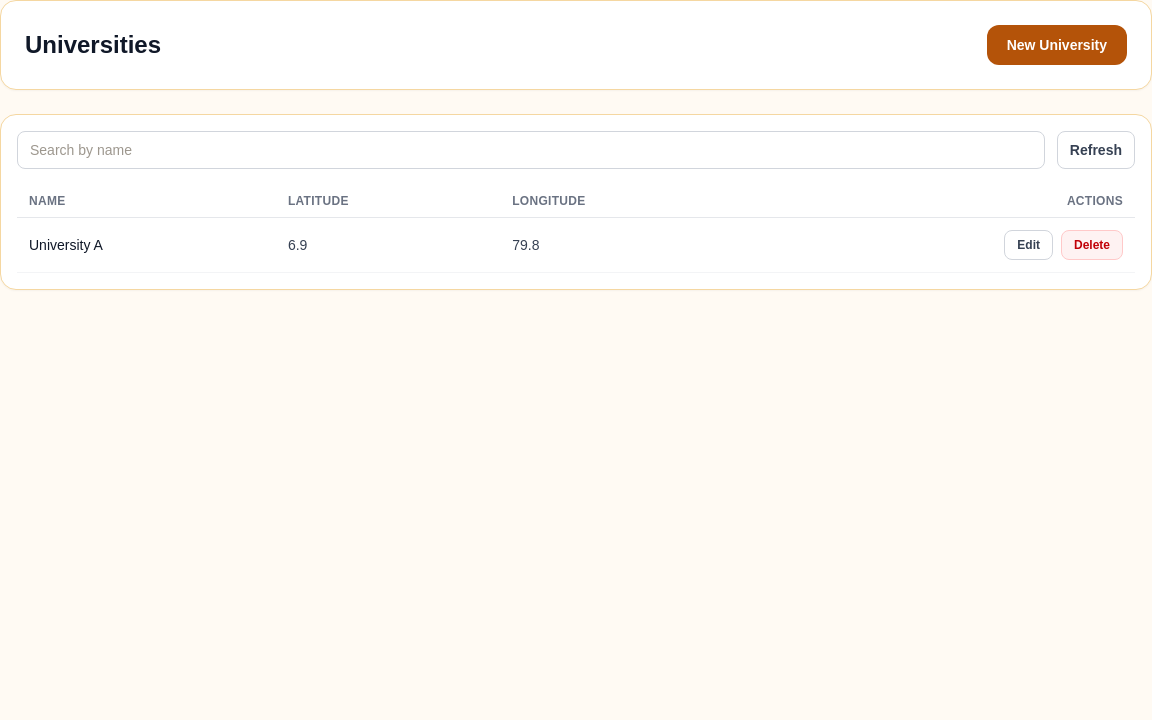
Admin universities page › validates maps URL before submit
Expected: the text "University A" is shown, [17,218,276,272]
Click the button "New University" at (1057, 45), box [987,25,1127,65]
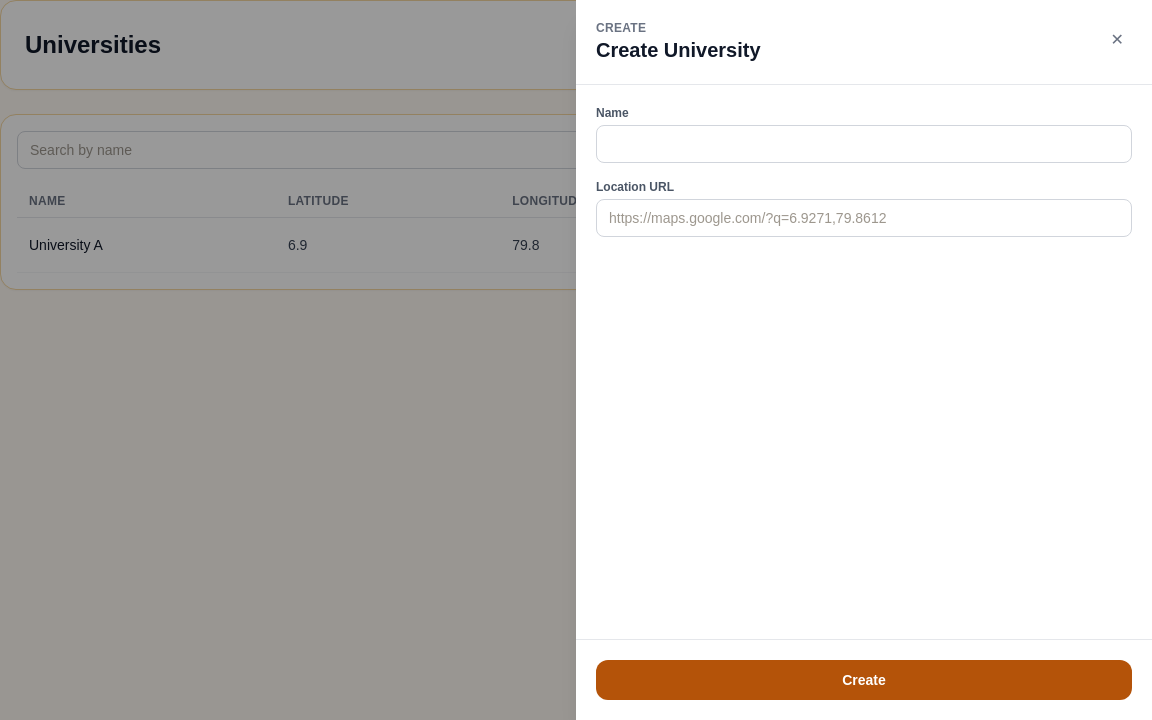
Type "University B" into the 1st field at (864, 144), box [596,125,1132,163]
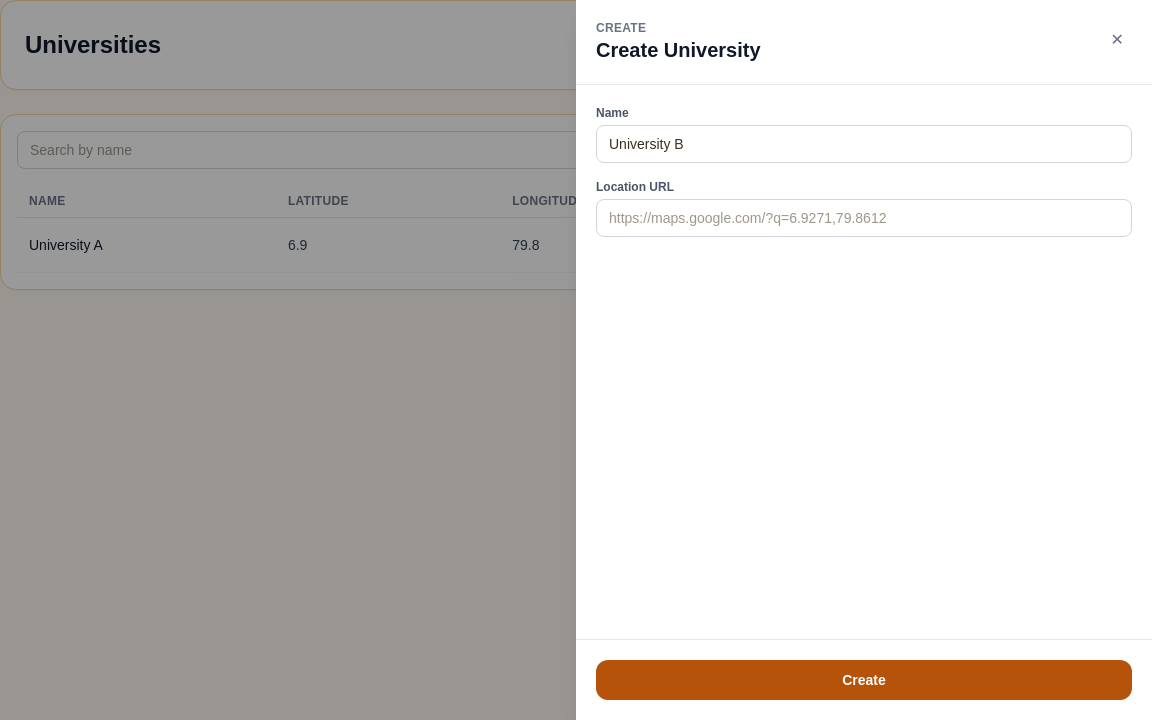
Type "bad-url" into the field with placeholder "https://maps.google.com/?q=6.9271,79.8612" at (864, 218), box [596,199,1132,237]
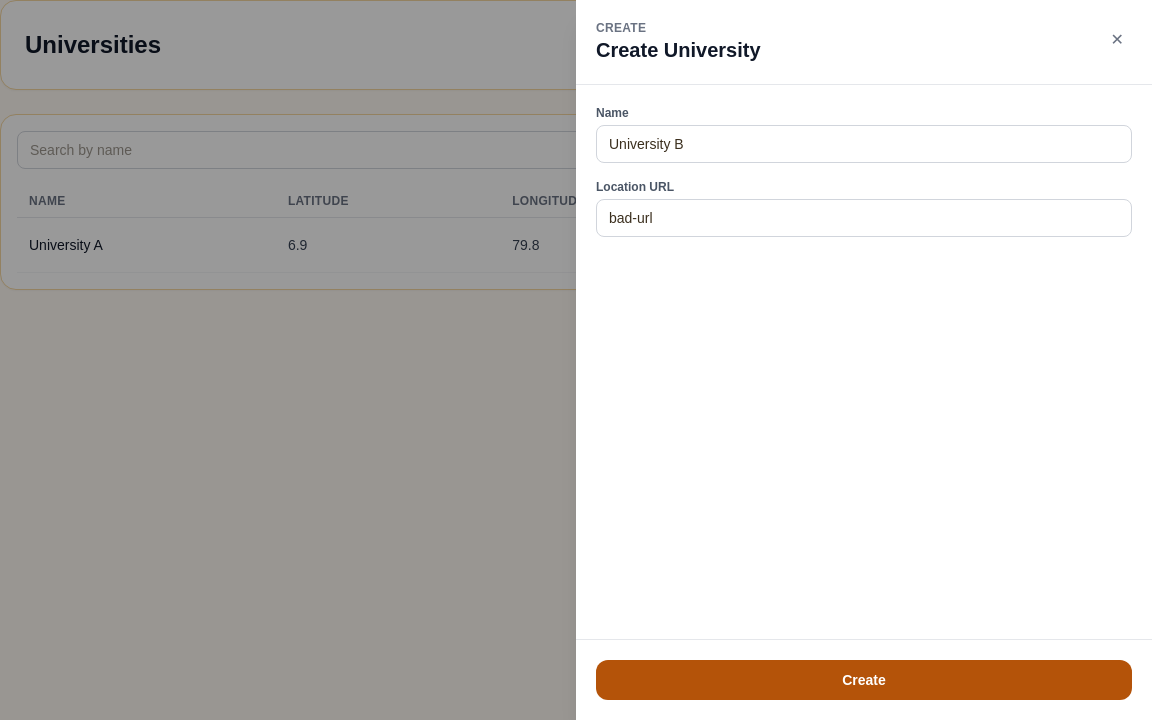
Click the button "Create" at (864, 680), box [596,660,1132,700]
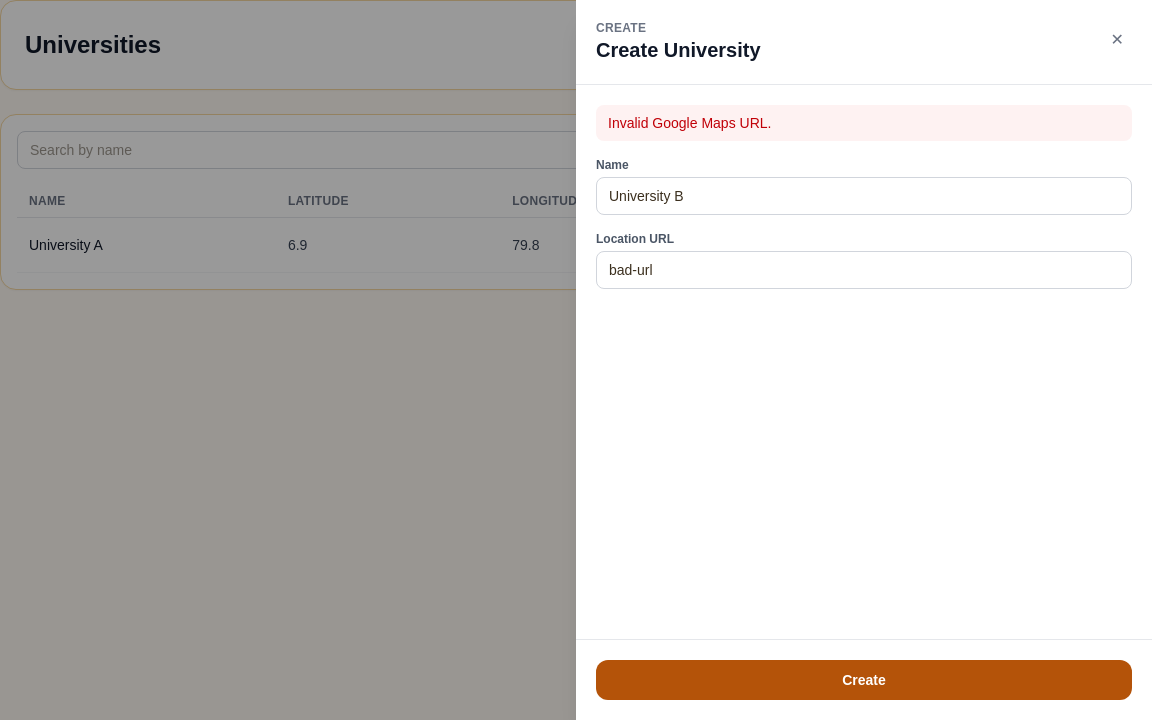
Result: the text "Invalid Google Maps URL." is shown at [596,105,1132,141]
